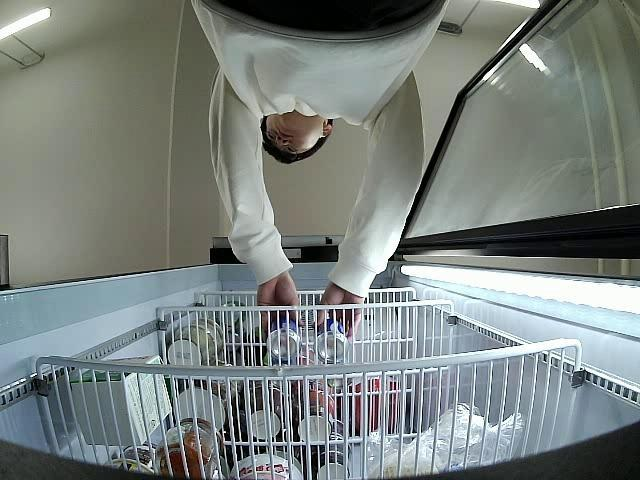13_pocariSweat: (314, 318, 349, 365), (268, 316, 300, 358)
